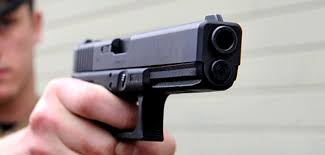gun: (53, 14, 242, 155)
